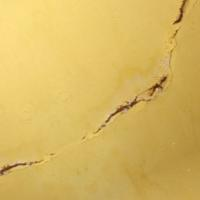crack: (0, 0, 186, 176)
